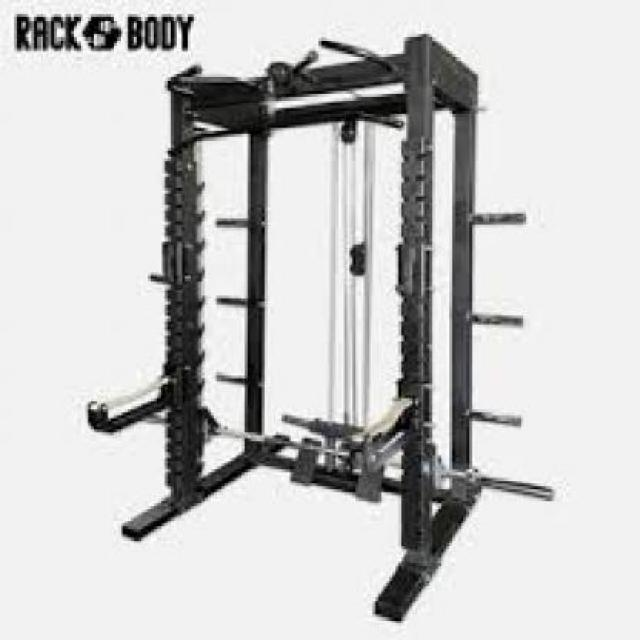smith machine: (88, 53, 555, 624)
